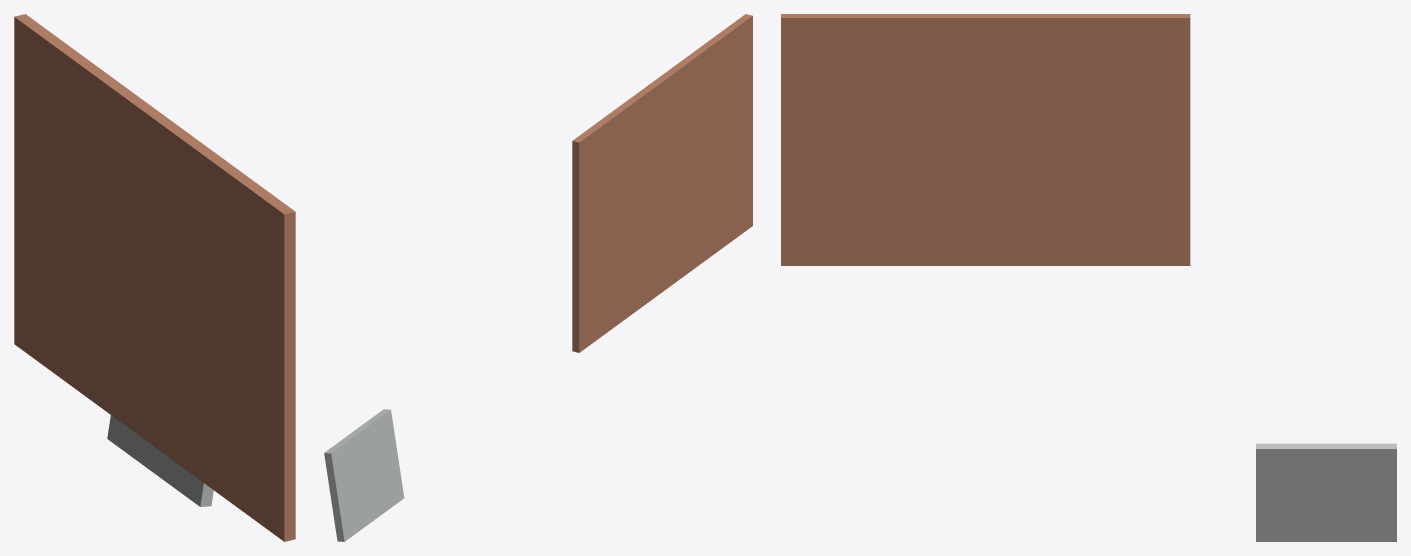
Rendered from Glass.fbx.
The picture shows the model from 3 angles, left to right: view 1: azimuth 30°, elevation 25°; view 2: azimuth 150°, elevation 25°; view 3: azimuth 270°, elevation 25°; orthographic projection. The views are drawn at different scales.
Visible parts, largest first — view 1: Glass; view 2: Glass; view 3: Glass.
Part boxes in pixels (bbox=[...]): Glass: bbox=[14, 14, 295, 541]; Glass: bbox=[324, 14, 752, 541]; Glass: bbox=[781, 14, 1396, 541].
Bounding box in the file's own units: 92.08 × 195 × 248.
